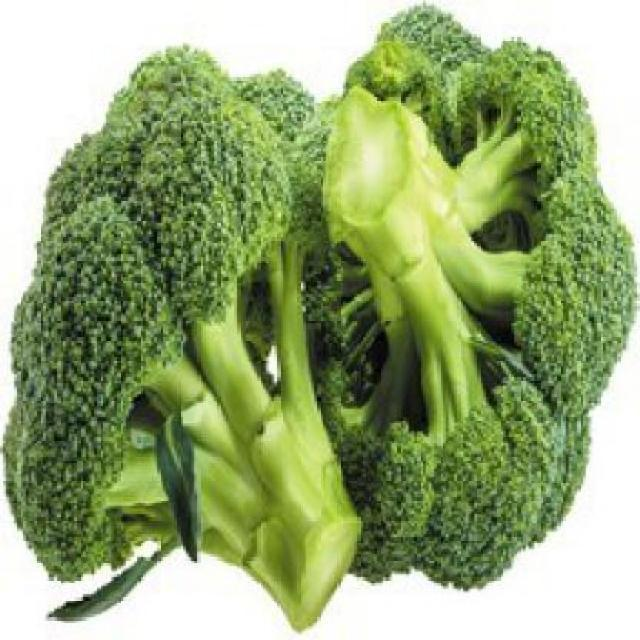broccoli: (2, 37, 368, 626), (314, 14, 637, 583)
